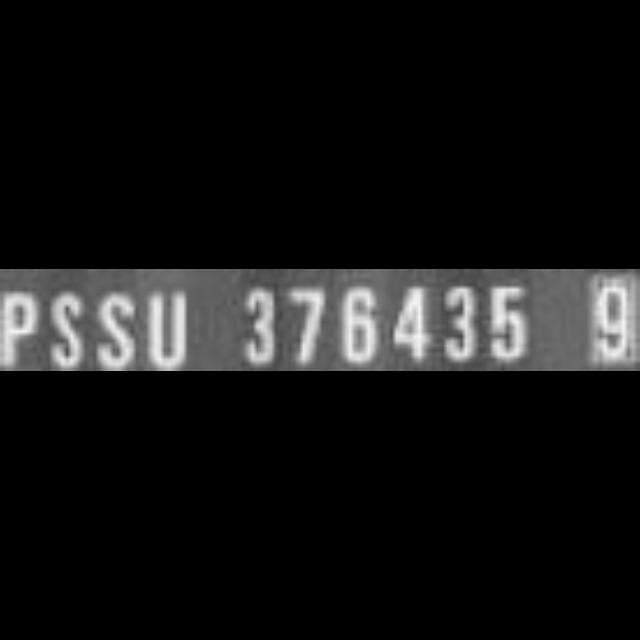3: (436, 277, 484, 371), (237, 279, 283, 371)
4: (385, 278, 435, 370)
5: (483, 272, 535, 371)
6: (333, 277, 382, 371)
7: (282, 281, 332, 371)
9: (586, 276, 640, 370)
p: (1, 283, 42, 371)
s: (88, 286, 142, 370), (42, 283, 88, 371)
u: (142, 283, 195, 371)
